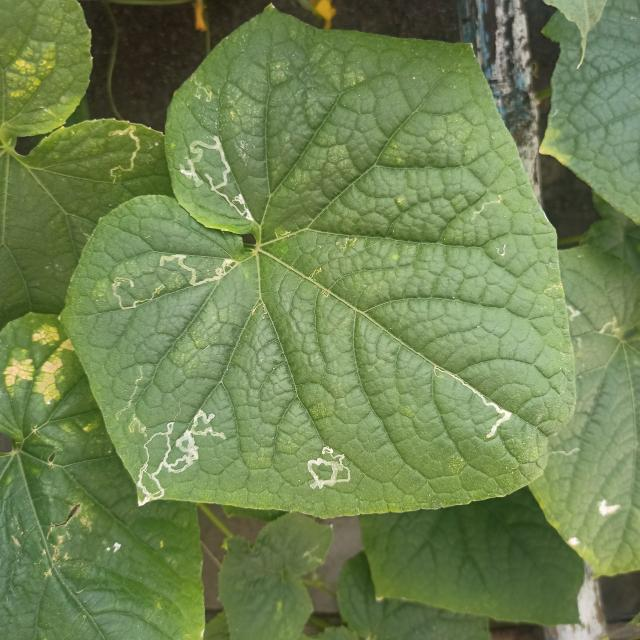disease_cucumber: (3, 323, 82, 404)
